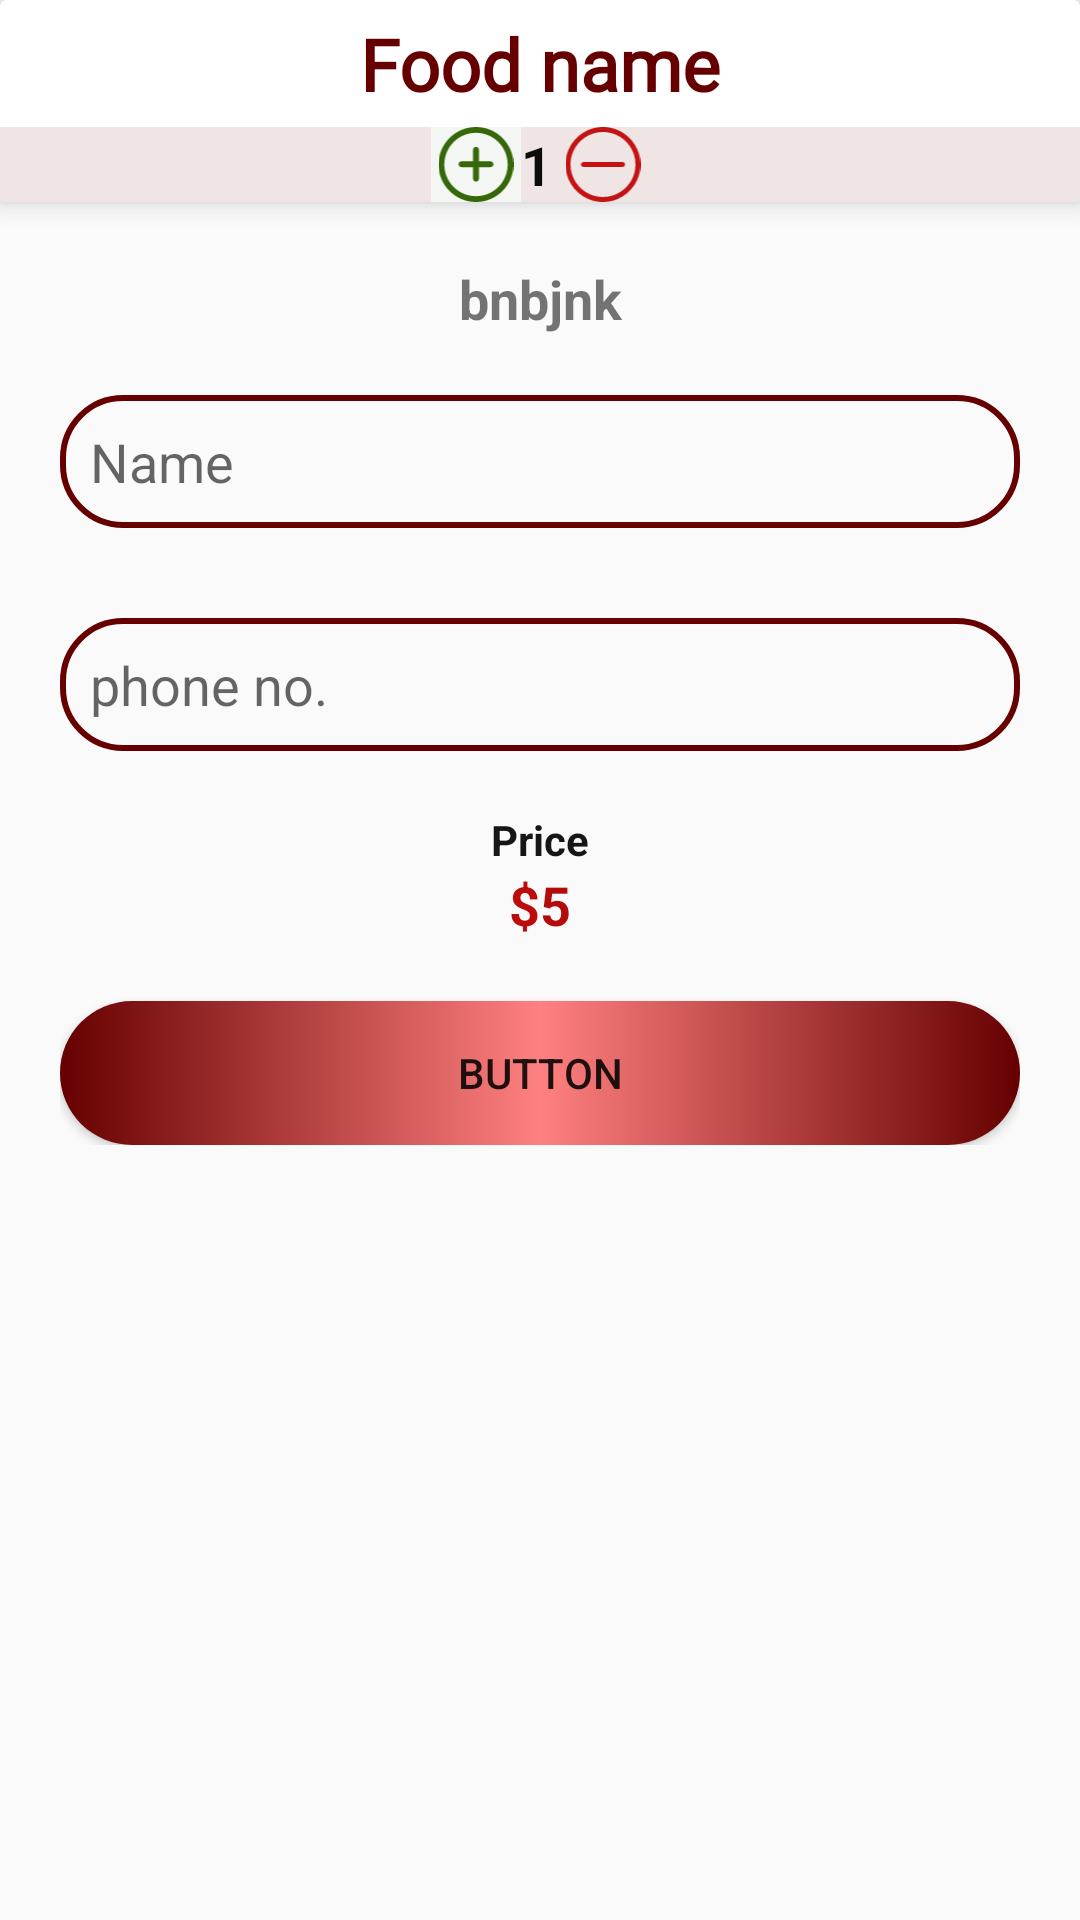

Locate icon controls on the screen. Image size 1080 x 1920, boxes as (x1, y1, x2, y2).
add: (431, 127, 521, 202)
minus: (566, 127, 641, 202)
